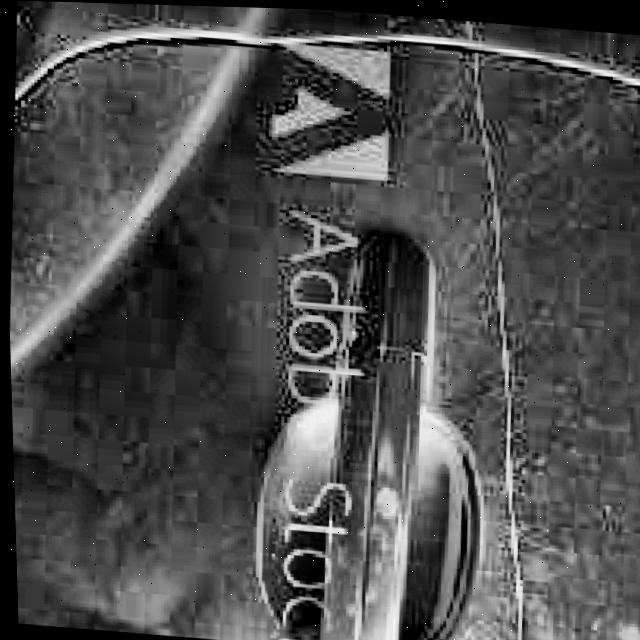door_scratch: (472, 34, 553, 627)
